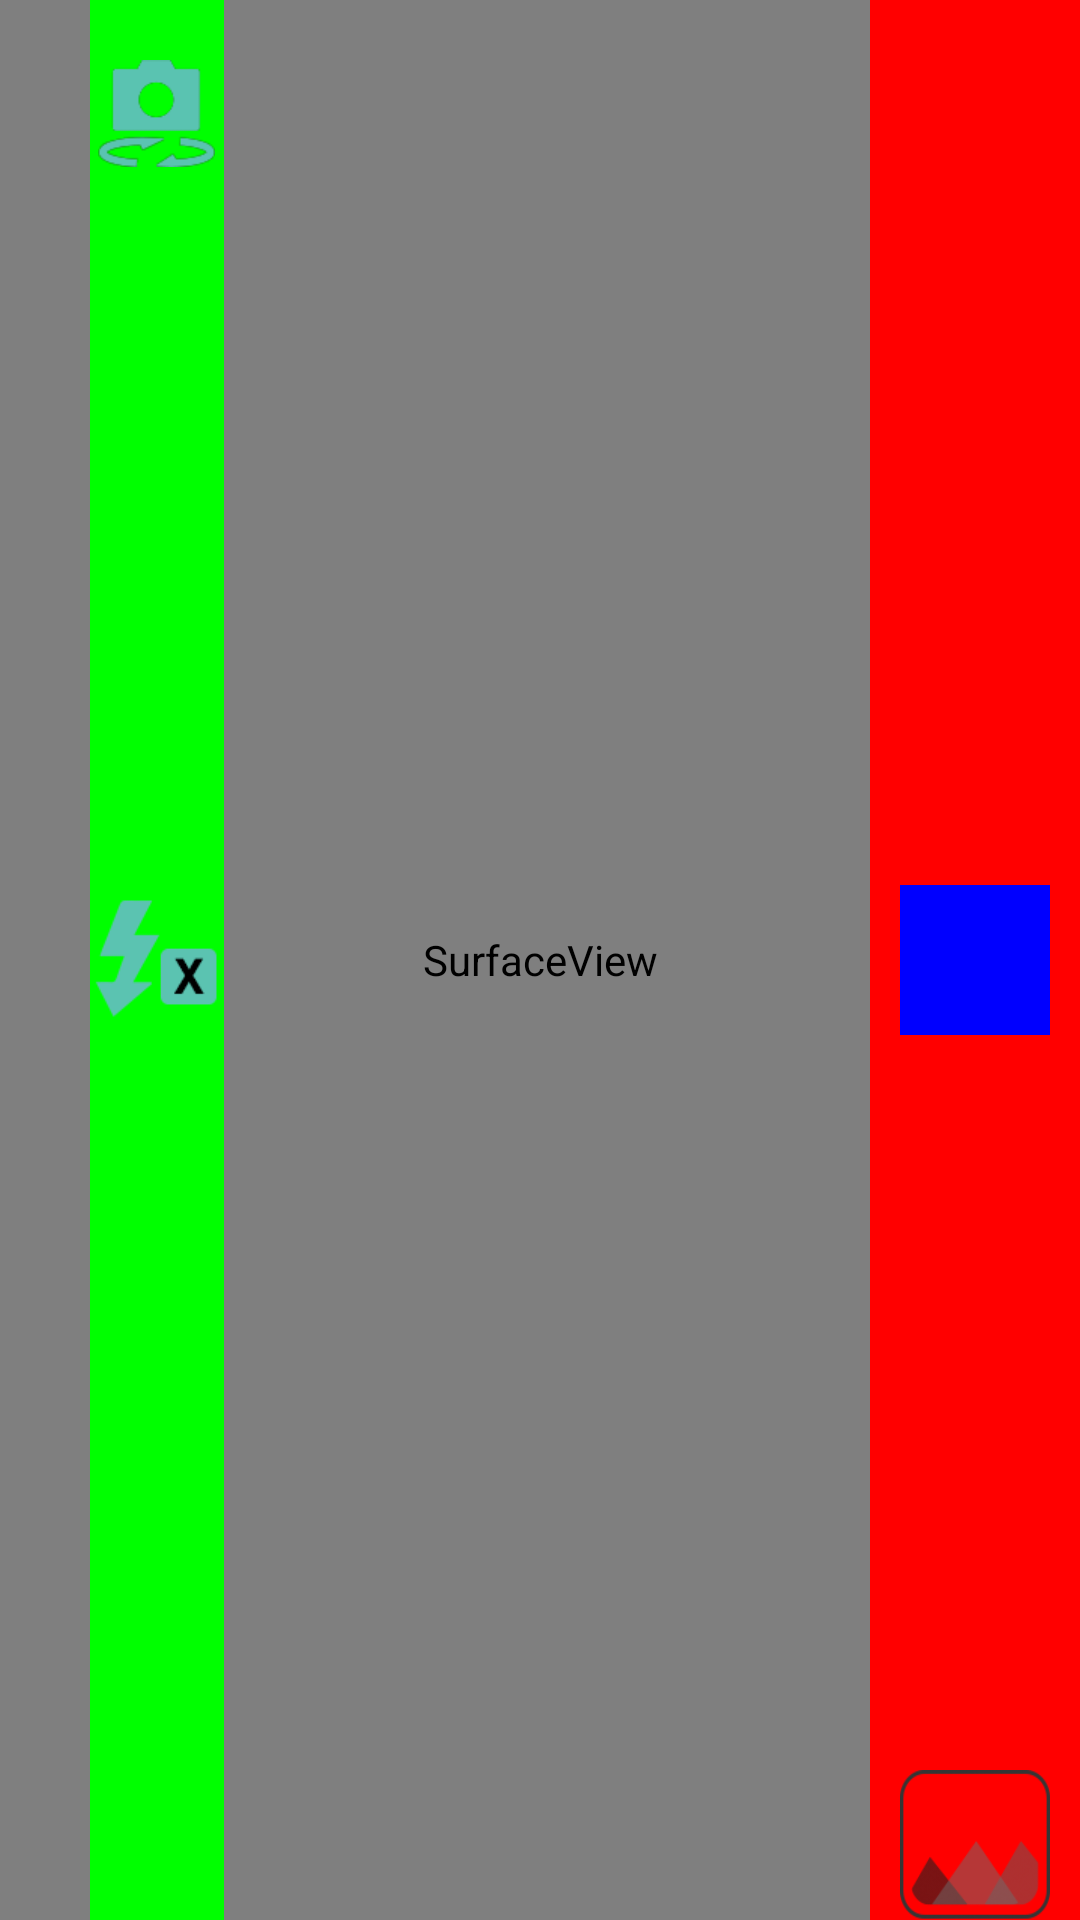

Named icons in this screenshot (1080 x 1920) and their centers, [x,y]:
camera change: [156,113]
flash off: [156,958]
photo: [975,1844]
